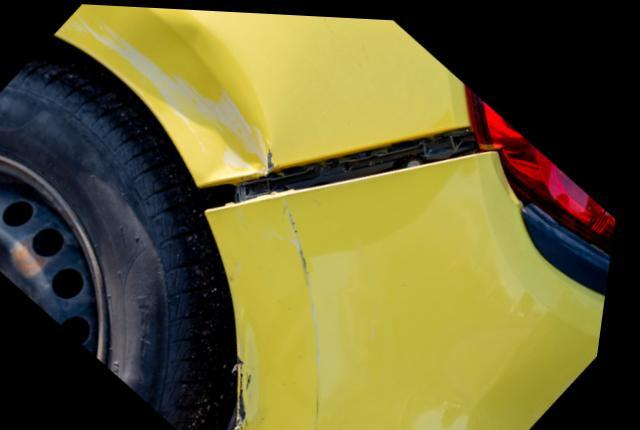dent: (102, 6, 272, 183)
dislocated part: (197, 113, 487, 227)
scratch: (290, 194, 333, 430)
